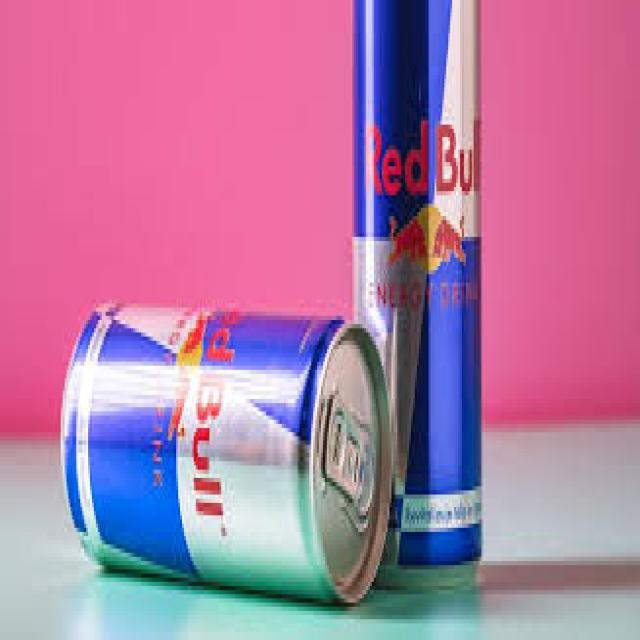red-bull: (62, 300, 389, 597), (351, 0, 484, 568)
